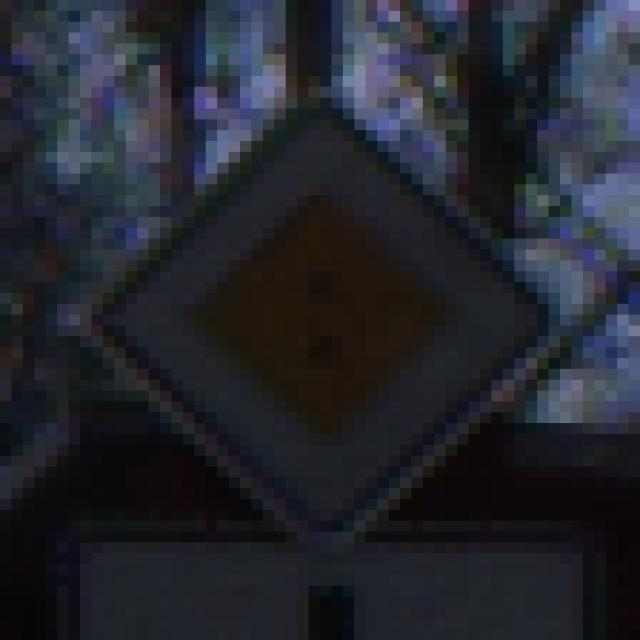Main Road: (58, 55, 584, 587)
